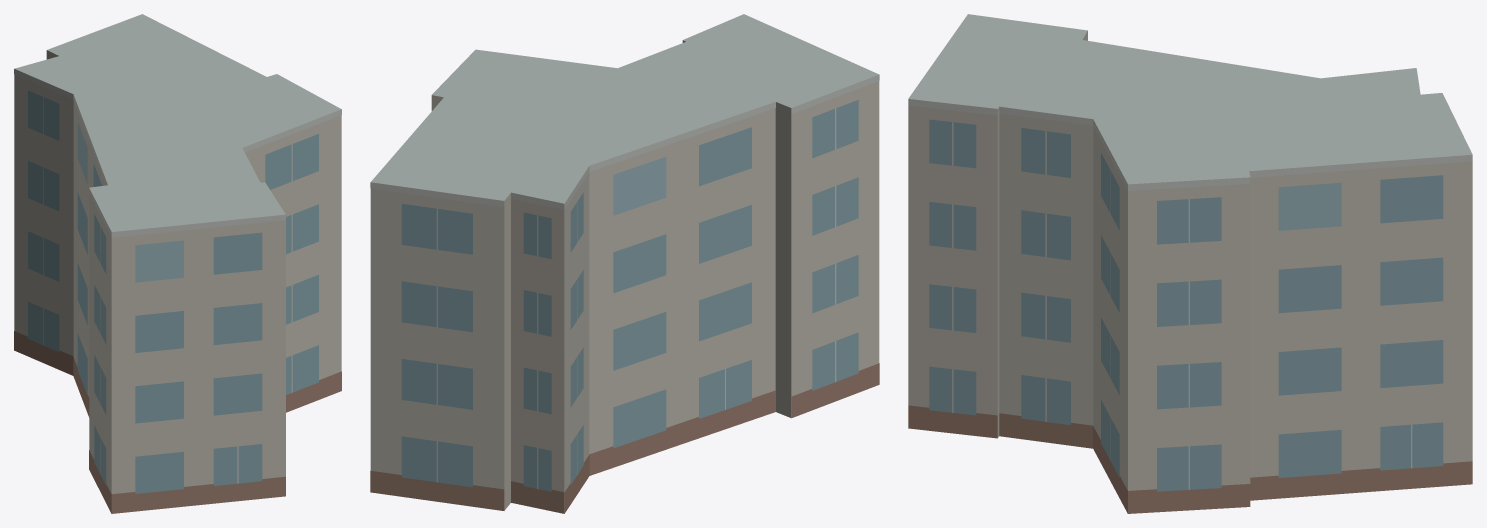
The model's file is survey-upis-32458174.glb.
3 renders of one model, left to right at view 1: azimuth 30°, elevation 25°; view 2: azimuth 150°, elevation 25°; view 3: azimuth 270°, elevation 25°, orthographic. The views are drawn at different scales.
Visible parts, largest first — view 1: survey-upis-32458174.tmp; view 2: survey-upis-32458174.tmp; view 3: survey-upis-32458174.tmp.
Boxes of the visible parts, x1,y1,x2,y2 form: survey-upis-32458174.tmp: (14, 14, 341, 513); survey-upis-32458174.tmp: (370, 14, 879, 513); survey-upis-32458174.tmp: (908, 14, 1472, 513).
Bounding box in the file's own units: 13.54 × 12.2 × 18.95.
